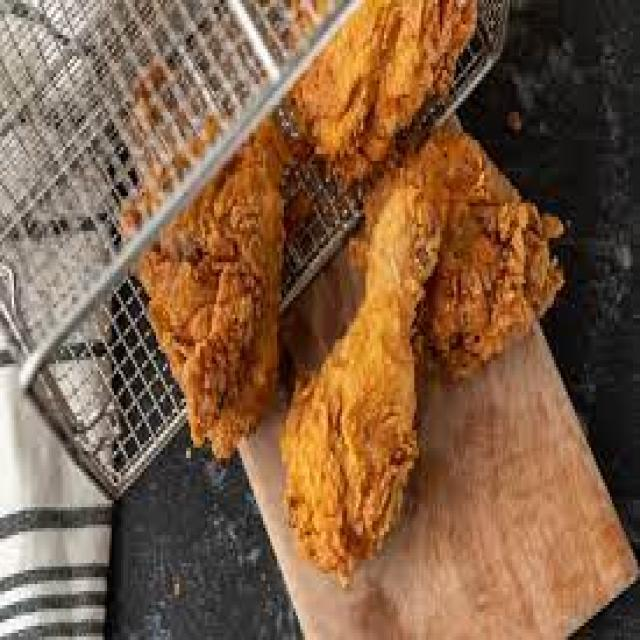Frango: (124, 0, 570, 605)
